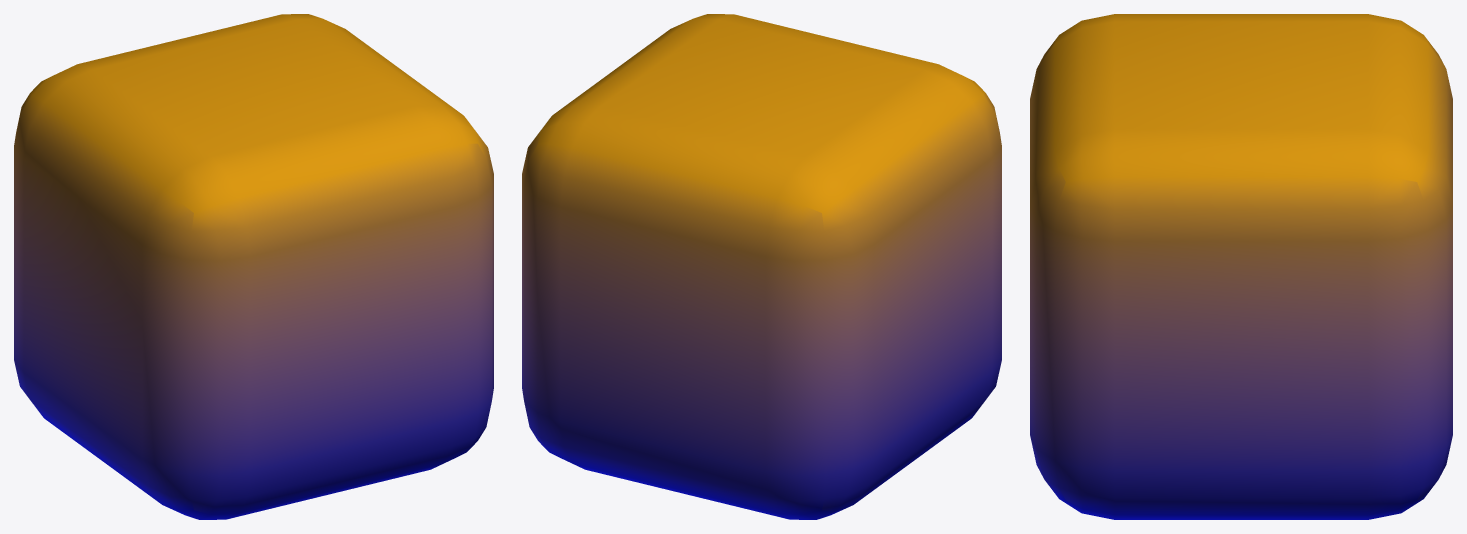
The picture shows the model from 3 angles, left to right: view 1: azimuth 30°, elevation 25°; view 2: azimuth 150°, elevation 25°; view 3: azimuth 270°, elevation 25°; orthographic projection. The views are drawn at different scales.
Visible parts, largest first — view 1: Cube; view 2: Cube; view 3: Cube.
Boxes of the visible parts, left/top/right/bottom form: Cube: left=14, top=14, right=493, bottom=519; Cube: left=522, top=14, right=1001, bottom=519; Cube: left=1030, top=14, right=1452, bottom=519.
Bounding box in the file's own units: 1 × 1 × 1.
